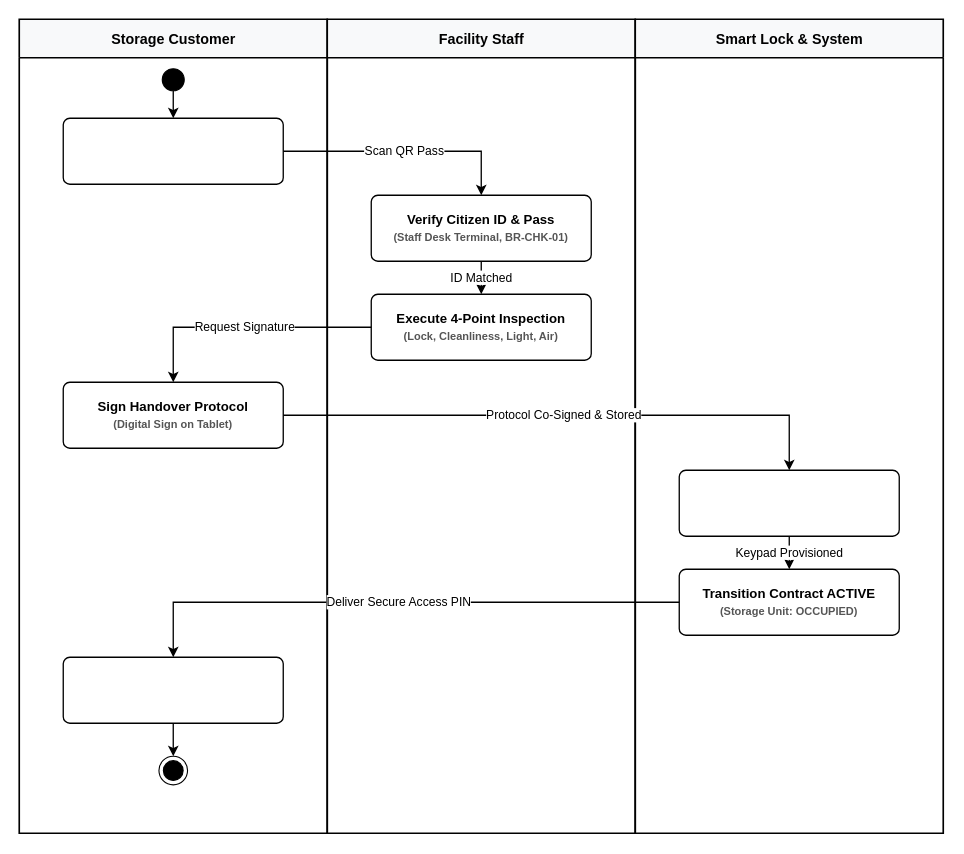
Some shapes in this 964 by 854 pixel diagram are drawn without their labels. Each missing label, with the box of its shape:
Generate 6-Digit PIN (Sync to Smart Lock Keypad): (678, 469, 899, 536)
Present Move-in Pass QR (Arrive at Facility on Start Date): (62, 117, 283, 184)
Store PIN in App & Move-in (24/7 Gate & Unit Access): (62, 656, 283, 723)
